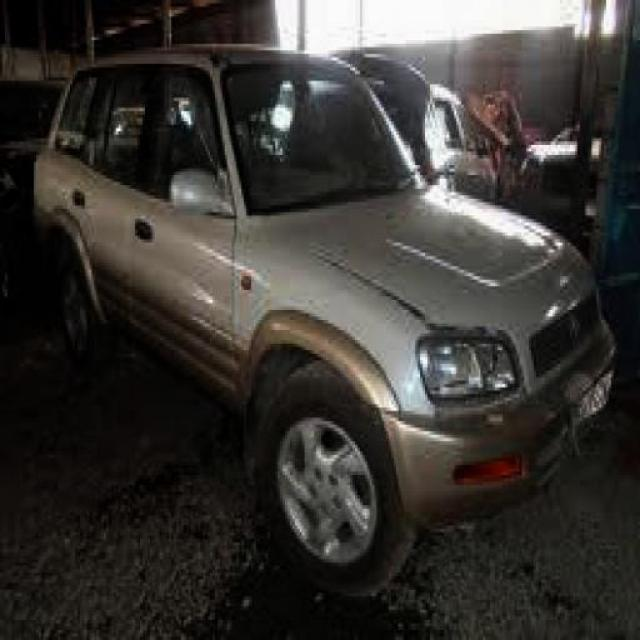Car-Damage: (536, 378, 594, 477)
